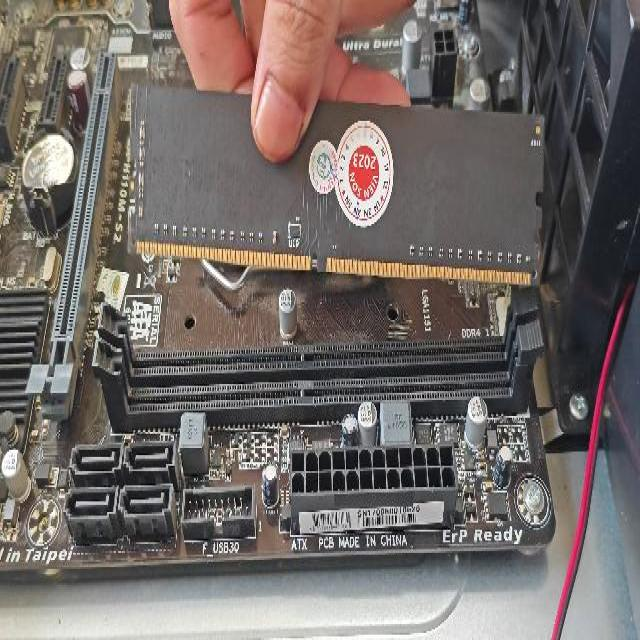Mainboard: (0, 0, 556, 572)
RAM: (127, 79, 546, 289)
